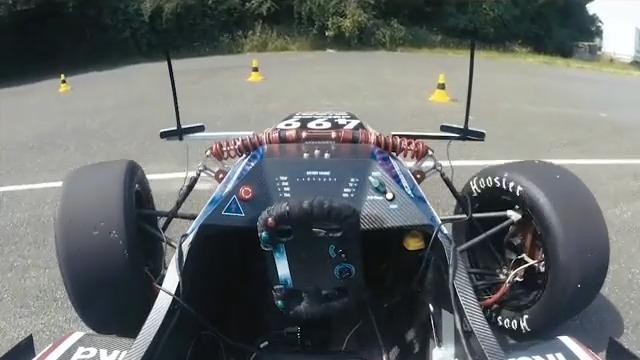yellow_cone: (429, 73, 451, 103), (247, 59, 264, 82), (59, 74, 73, 92)
